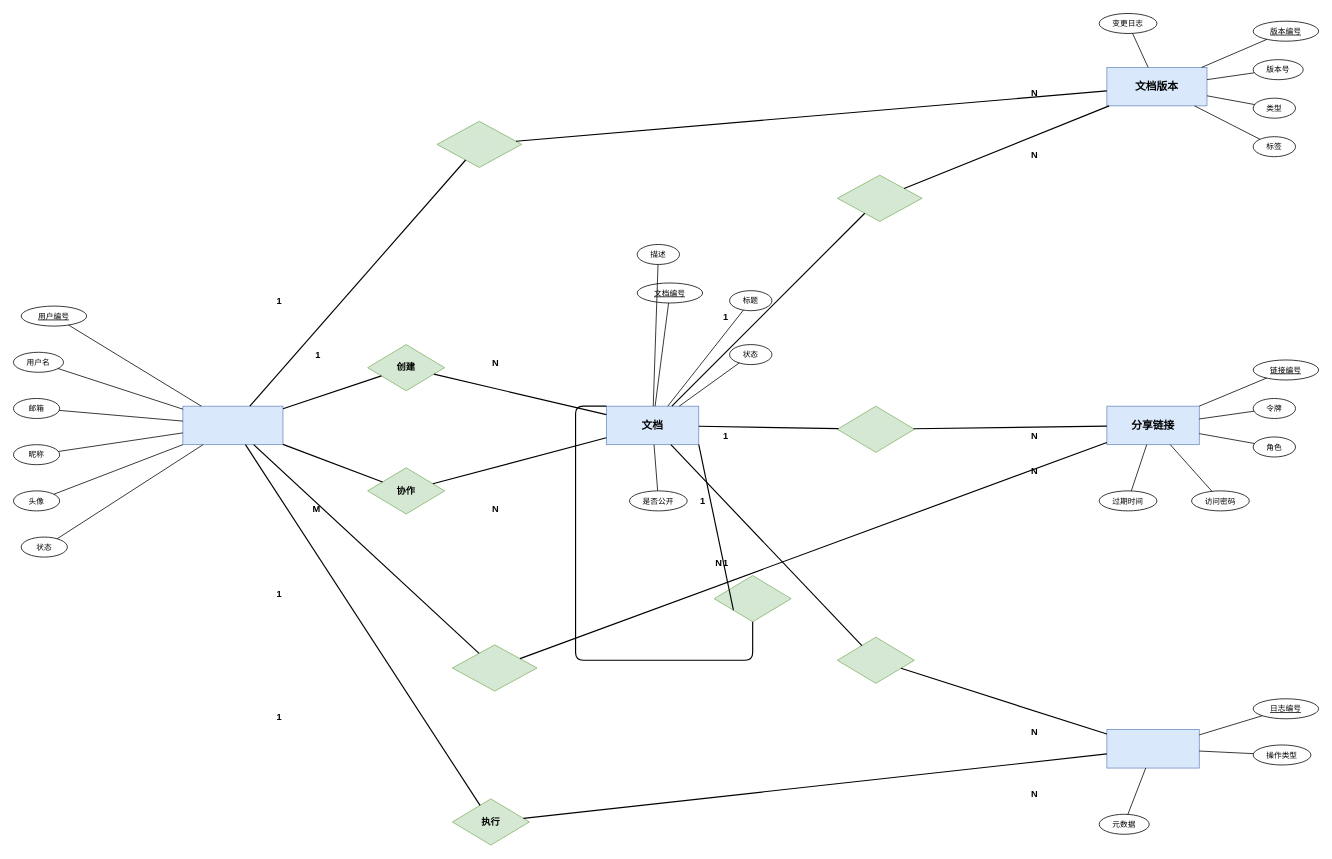
The diagram is 1332 pixels wide and 859 high, and some of its shapes have lost their labels. Each missing label, with the centre of its shape:
"创建版本" goes at point 479,144.
"创建链接" goes at point 494,667.
"包含" goes at point 752,598.
"拥有版本" goes at point 879,197.
"操作日志" goes at point 1152,748.
"生成" goes at point 875,428.
"用户" goes at point 232,425.
"记录" goes at point 875,659.
